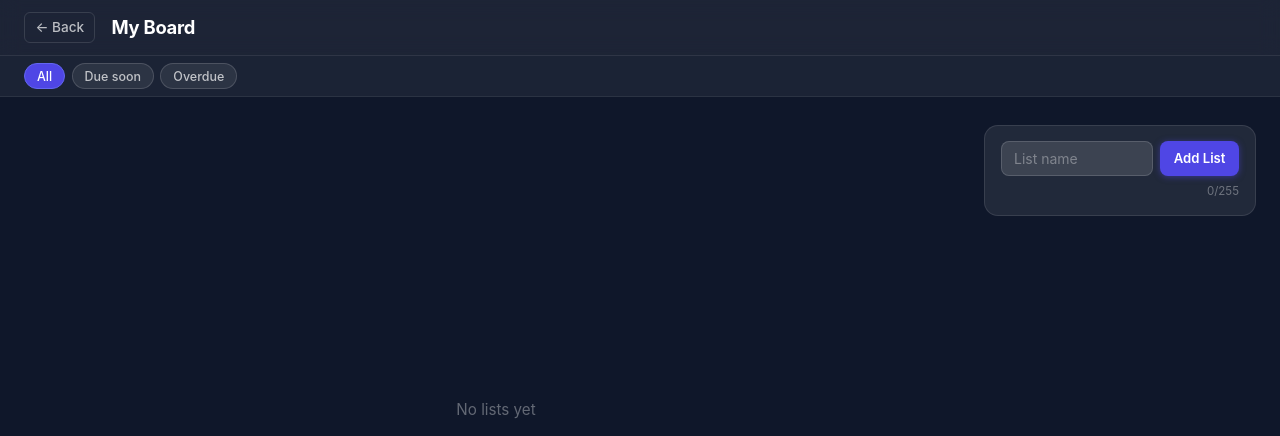
Test: character counter › updates counter as user types
This screenshot has width=1280, height=436.
Expected: the text "No lists yet" is shown, [456, 400, 536, 419]
Type "Hello" into the field labelled "List name".
click(1077, 158); type("Hello")  # box [1001, 141, 1153, 176]
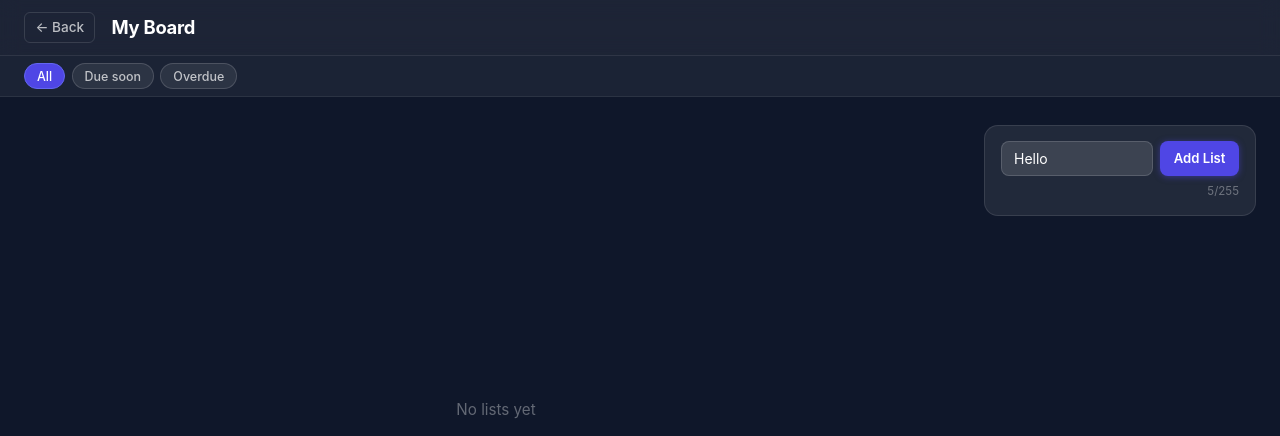
Expected: the text "5/255" is shown, [1207, 184, 1239, 198]
